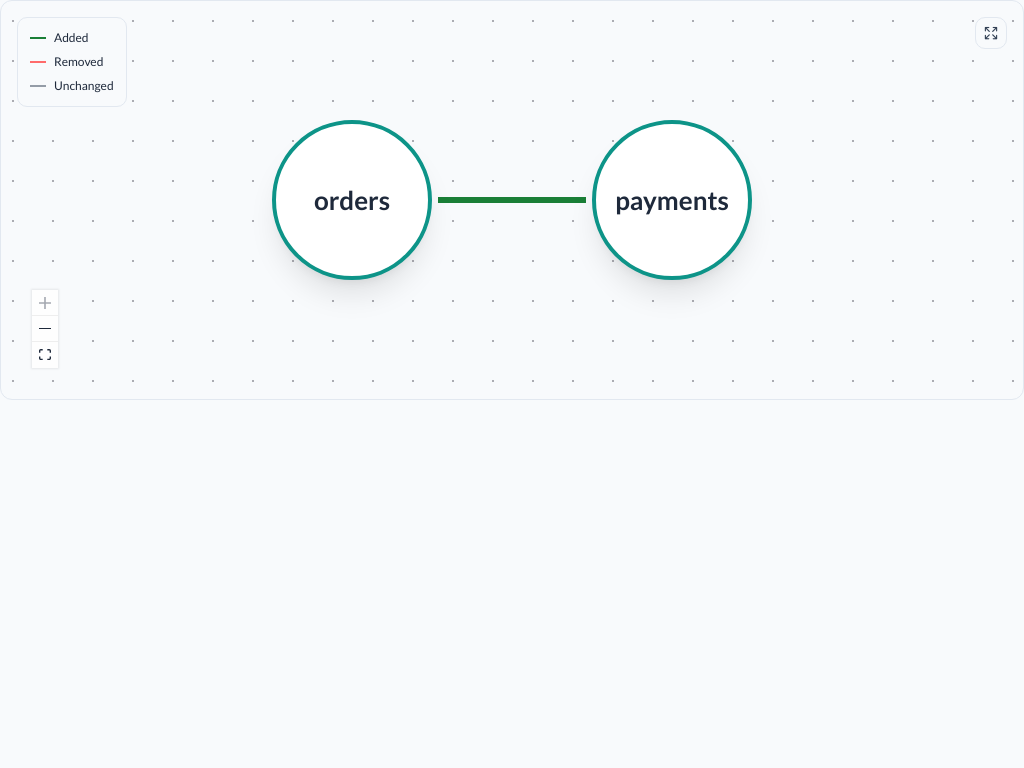
Test case: DomainConnectionDiff › fullscreen modal › opens fullscreen modal when expand button is clicked
The image size is (1024, 768).
Click the button named "expand": (991, 33) [975,17,1007,49]
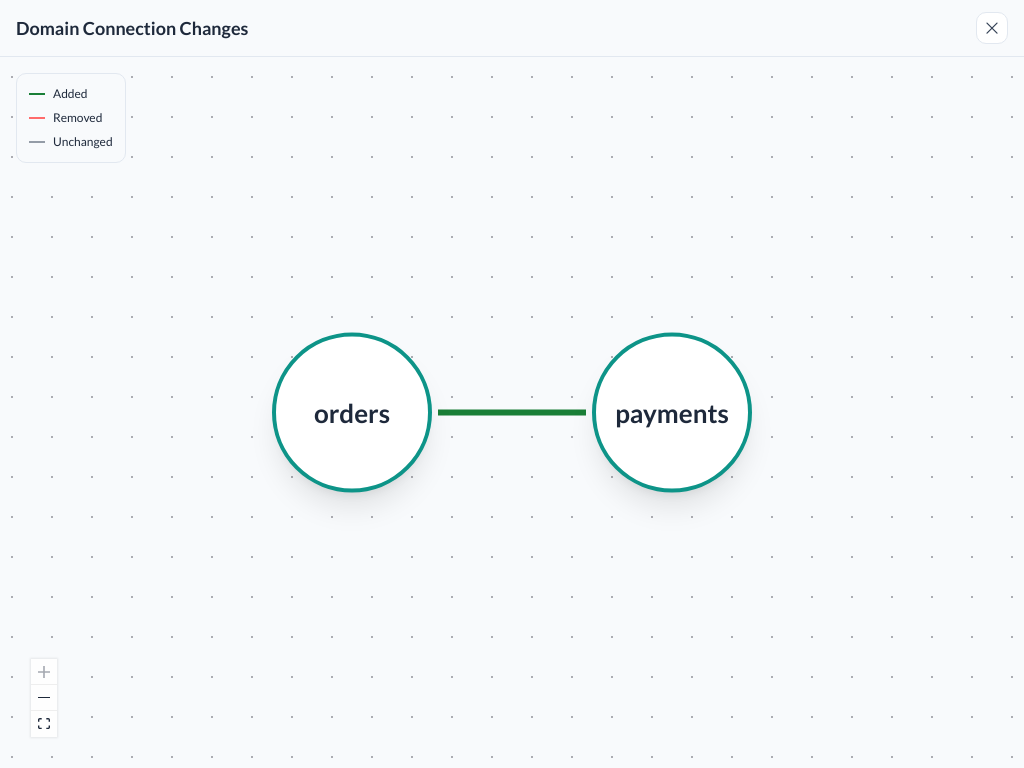
Now the dialog "Domain Connection" is shown
